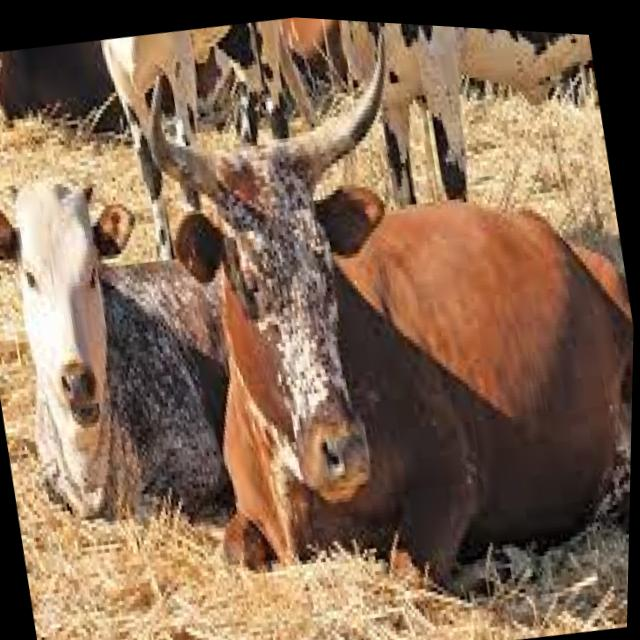cowFace: (132, 37, 463, 541), (0, 182, 188, 516)
